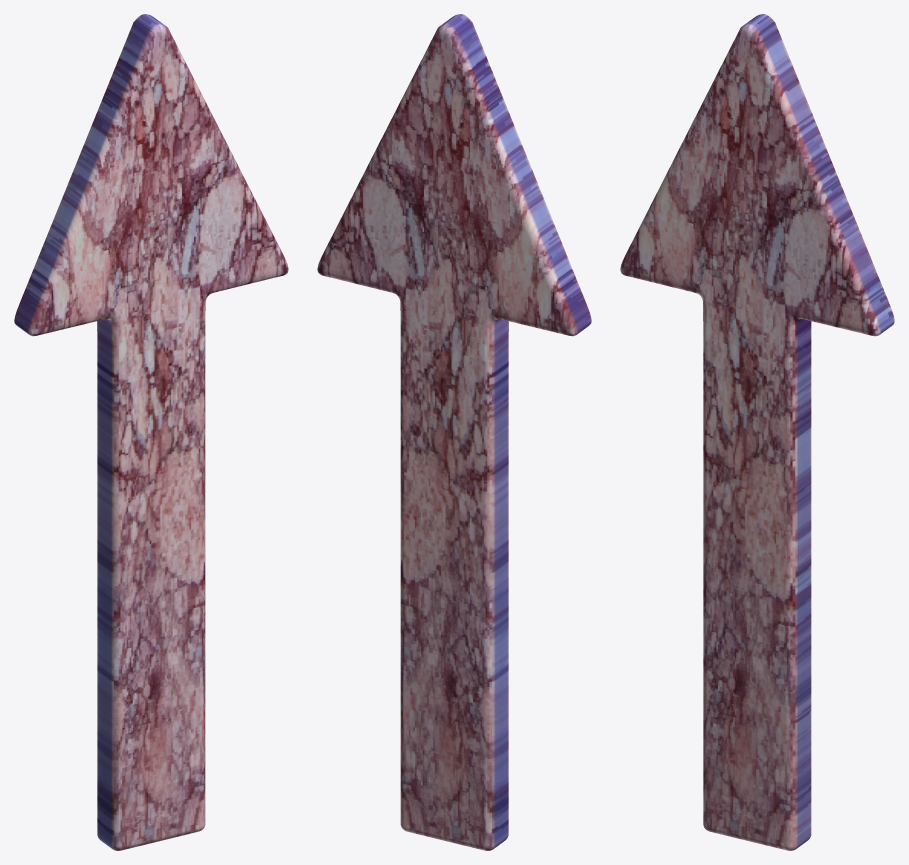
File: arrow.glb
3 renders of one model, left to right at view 1: azimuth 30°, elevation 25°; view 2: azimuth 150°, elevation 25°; view 3: azimuth 330°, elevation 25°, orthographic.
Visible parts, largest first — view 1: node_id30; view 2: node_id30; view 3: node_id30.
Boxes of the visible parts, bbox=[...] form: node_id30: bbox=[14, 14, 288, 850]; node_id30: bbox=[317, 14, 591, 850]; node_id30: bbox=[620, 14, 894, 850].
Bounding box in the file's own units: 0.1708 × 0.512 × 0.024.
1 material, 1 textured.
